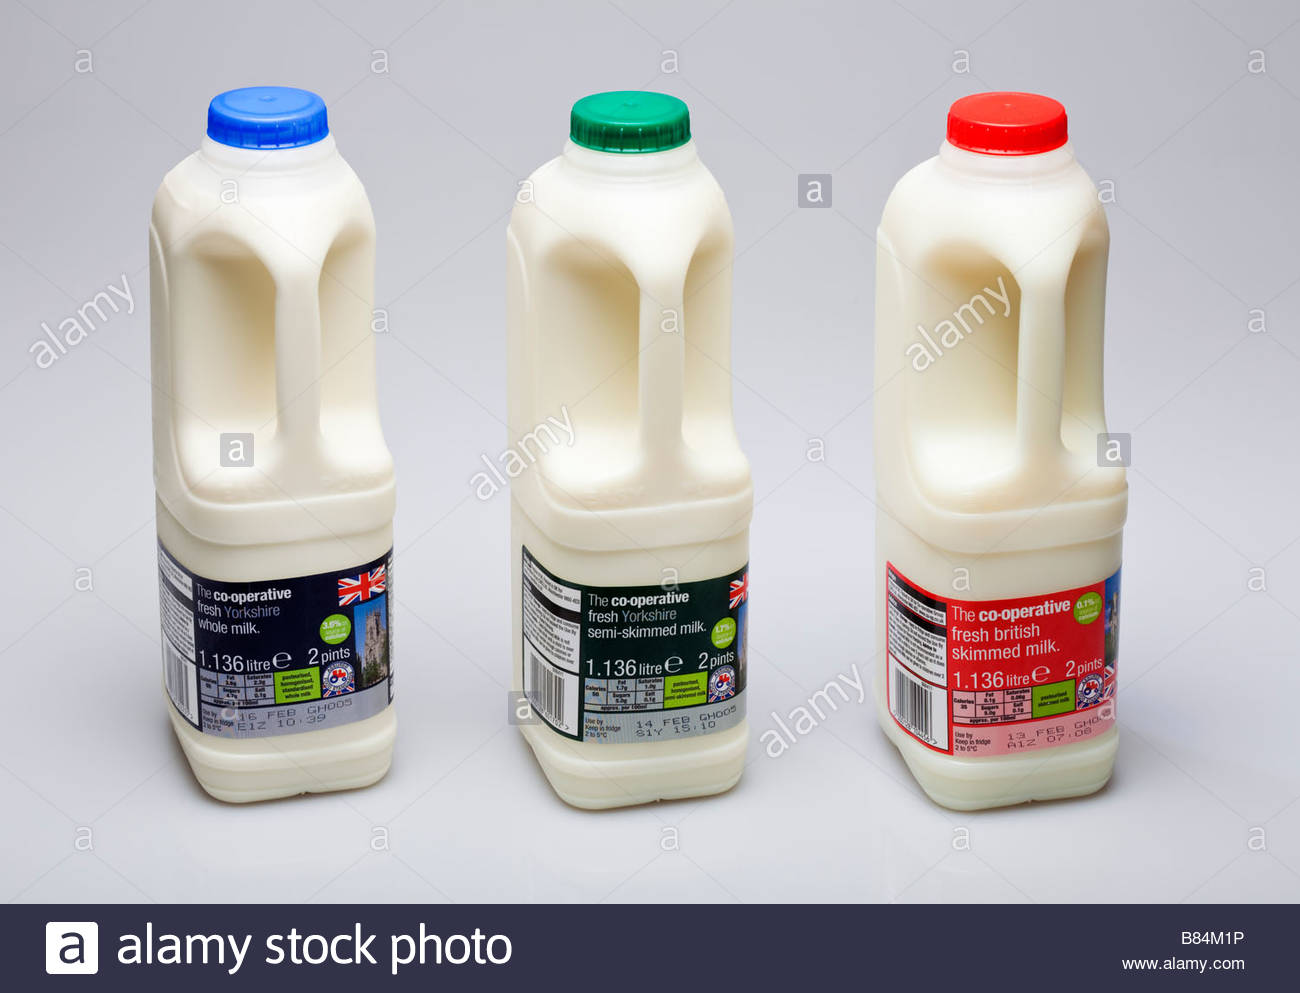milk: (147, 93, 417, 799), (882, 89, 1132, 823), (517, 93, 766, 812)
